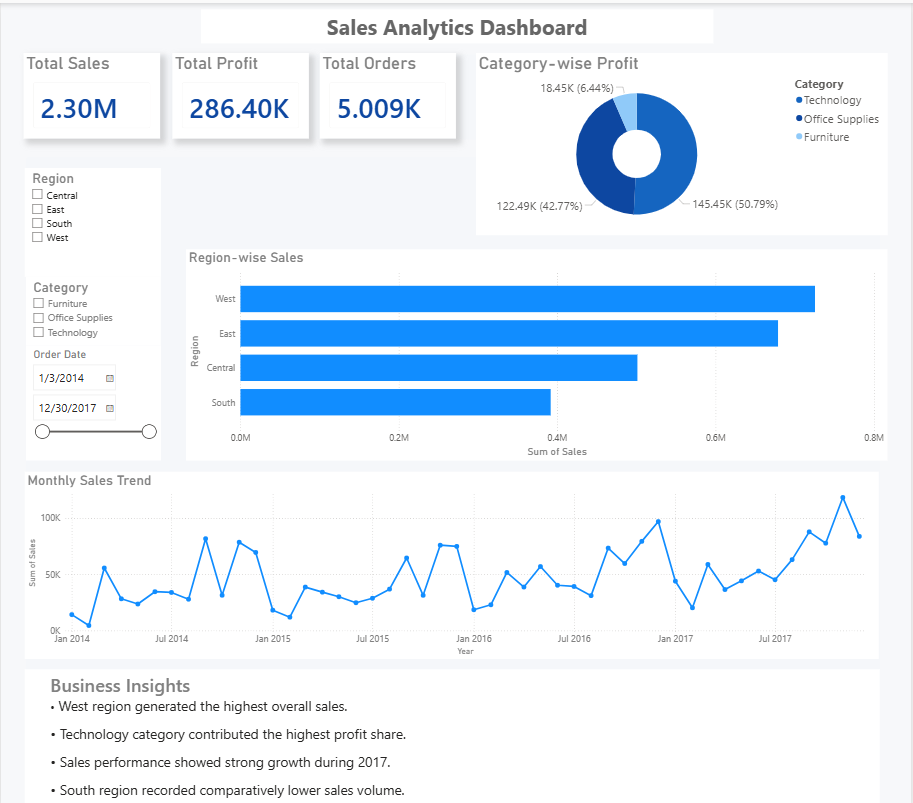

The dashboard page shown, as its layout file describes it:
{"tool":"powerbi","page":{"name":"Page 1","canvas":[1600,1420],"ordinal":0},"visuals":[{"type":"shape","box":[43.3,270.6,1500,932.9],"z":0},{"type":"shape","box":[40.7,89.2,1499.7,150.3],"z":1000},{"type":"cardVisual","title":"Total Sales","fields":{"Data":["Sum(Sample - Superstore.Sales)"]},"box":[40,88.8,240,150],"z":2000},{"type":"cardVisual","title":"Total Profit","fields":{"Data":["Sum(Sample - Superstore.Profit)"]},"box":[300,88.8,240,150],"z":3000},{"type":"cardVisual","title":"Total Orders","fields":{"Data":["Count(Sample - Superstore.Order ID)"]},"box":[560,88.7,239.5,150.3],"z":4000},{"type":"lineChart","title":"Monthly Sales Trend","fields":{"Y":["Sum(Sample - Superstore.Sales)"],"Category":["Sample - Superstore.Order Date.Variation.Date Hierarchy.Year","Sample - Superstore.Order Date.Variation.Date Hierarchy.Month"]},"box":[41.1,822.5,1500,329],"z":5000},{"type":"clusteredBarChart","title":"Region-wise Sales","fields":{"Category":["Sample - Superstore.Region"],"Y":["Sum(Sample - Superstore.Sales)"]},"box":[324.9,432.5,1231.6,371],"z":6000},{"type":"donutChart","title":"Category-wise Profit","fields":{"Category":["Sample - Superstore.Category"],"Y":["Sum(Sample - Superstore.Profit)"]},"box":[833.3,88.7,722.9,320.3],"z":7000},{"type":"slicer","fields":{"Values":["Sample - Superstore.Region"]},"box":[41.7,289.8,239.3,191],"z":8000},{"type":"slicer","fields":{"Values":["Sample - Superstore.Category"]},"box":[43.5,481,236.5,121],"z":9000},{"type":"slicer","fields":{"Values":["Sample - Superstore.Order Date"]},"box":[43.9,601.5,237.1,202],"z":10000},{"type":"textbox","box":[350.7,10,900.1,60],"z":11000},{"type":"textbox","box":[41.7,1170.2,1501.7,250.3],"z":12000}]}

Visuals, with their boxes in screenshot pixels (x1, y1, x2, y2), scaled from the page's 1600x1420 canvas onto the 913x803 screenshot:
shape: pyautogui.locateOnScreen(25, 153, 881, 681)
shape: pyautogui.locateOnScreen(23, 50, 879, 135)
"Total Sales" cardVisual: pyautogui.locateOnScreen(23, 50, 160, 135)
"Total Profit" cardVisual: pyautogui.locateOnScreen(171, 50, 308, 135)
"Total Orders" cardVisual: pyautogui.locateOnScreen(320, 50, 456, 135)
"Monthly Sales Trend" lineChart: pyautogui.locateOnScreen(23, 465, 879, 651)
"Region-wise Sales" clusteredBarChart: pyautogui.locateOnScreen(185, 245, 888, 454)
"Category-wise Profit" donutChart: pyautogui.locateOnScreen(476, 50, 888, 231)
slicer - Sample - Superstore.Region: pyautogui.locateOnScreen(24, 164, 160, 272)
slicer - Sample - Superstore.Category: pyautogui.locateOnScreen(25, 272, 160, 340)
slicer - Sample - Superstore.Order Date: pyautogui.locateOnScreen(25, 340, 160, 454)
textbox: pyautogui.locateOnScreen(200, 6, 714, 40)
textbox: pyautogui.locateOnScreen(24, 662, 881, 802)
